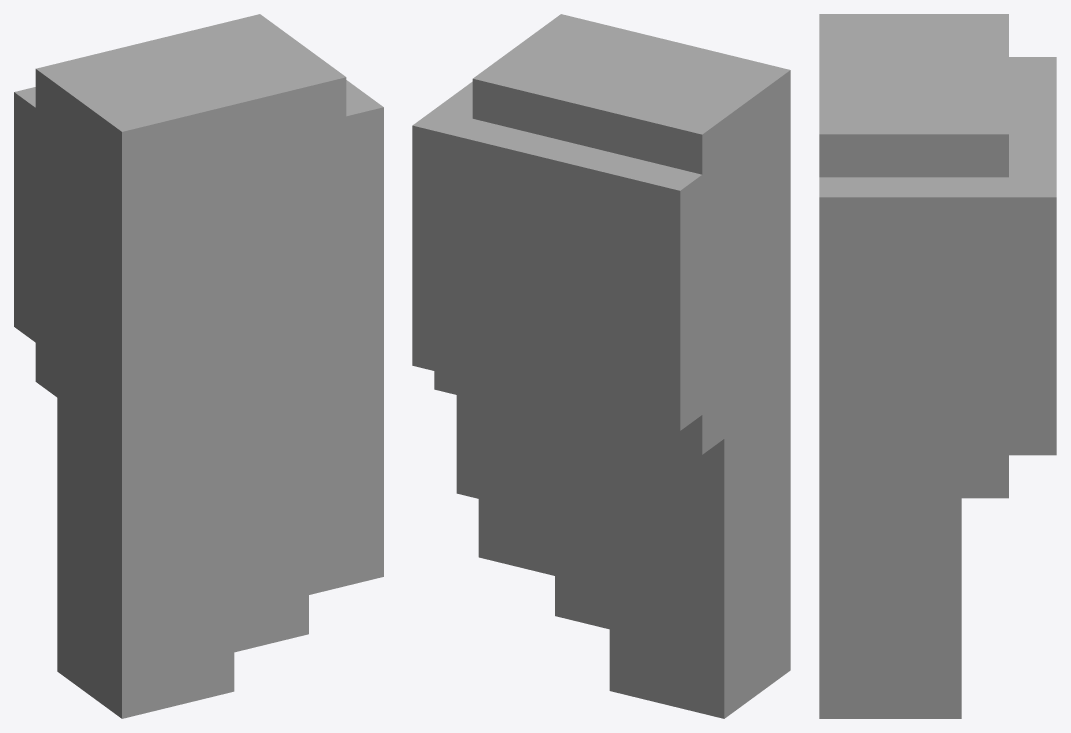
The model's file is gorilla-11-R_Foot.obj.
3 views of the same model, side by side, from view 1: azimuth 30°, elevation 25°; view 2: azimuth 150°, elevation 25°; view 3: azimuth 270°, elevation 25° (orthographic). The views are drawn at different scales.
Parts seen in each view (by area): view 1: R_Foot; view 2: R_Foot; view 3: R_Foot.
Boxes of the visible parts, x1,y1,x2,y2 form: R_Foot: [14, 14, 383, 718]; R_Foot: [412, 14, 790, 718]; R_Foot: [819, 14, 1056, 718].
Bounding box in the file's own units: 0.7 × 1.5 × 0.5.
Materials: 1 (1 with a texture image).
